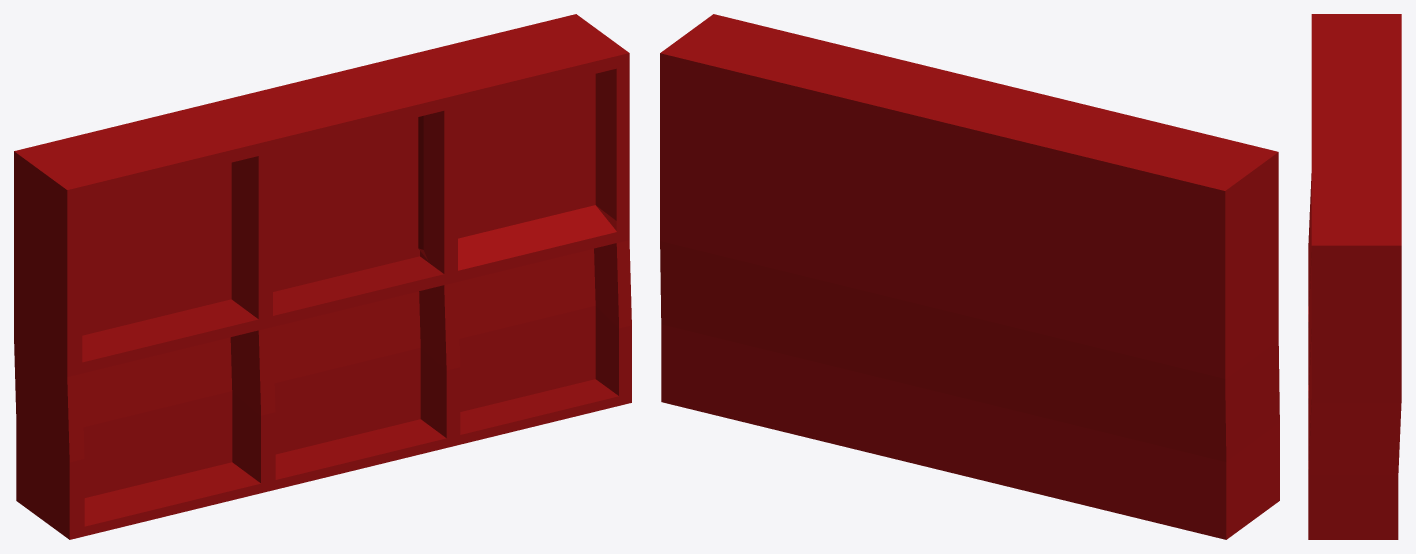
Rendered from bomb.obj.
3 renders of one model, left to right at view 1: azimuth 30°, elevation 25°; view 2: azimuth 150°, elevation 25°; view 3: azimuth 270°, elevation 25°, orthographic. The views are drawn at different scales.
Parts seen in each view (by area): view 1: Cube_Cube.001; view 2: Cube_Cube.001; view 3: Cube_Cube.001.
Part boxes in pixels (<box>): Cube_Cube.001: <box>14,14,631,539</box>; Cube_Cube.001: <box>660,14,1279,539</box>; Cube_Cube.001: <box>1308,14,1401,539</box>.
Bounding box in the file's own units: 3.66 × 2.17 × 0.6205.
